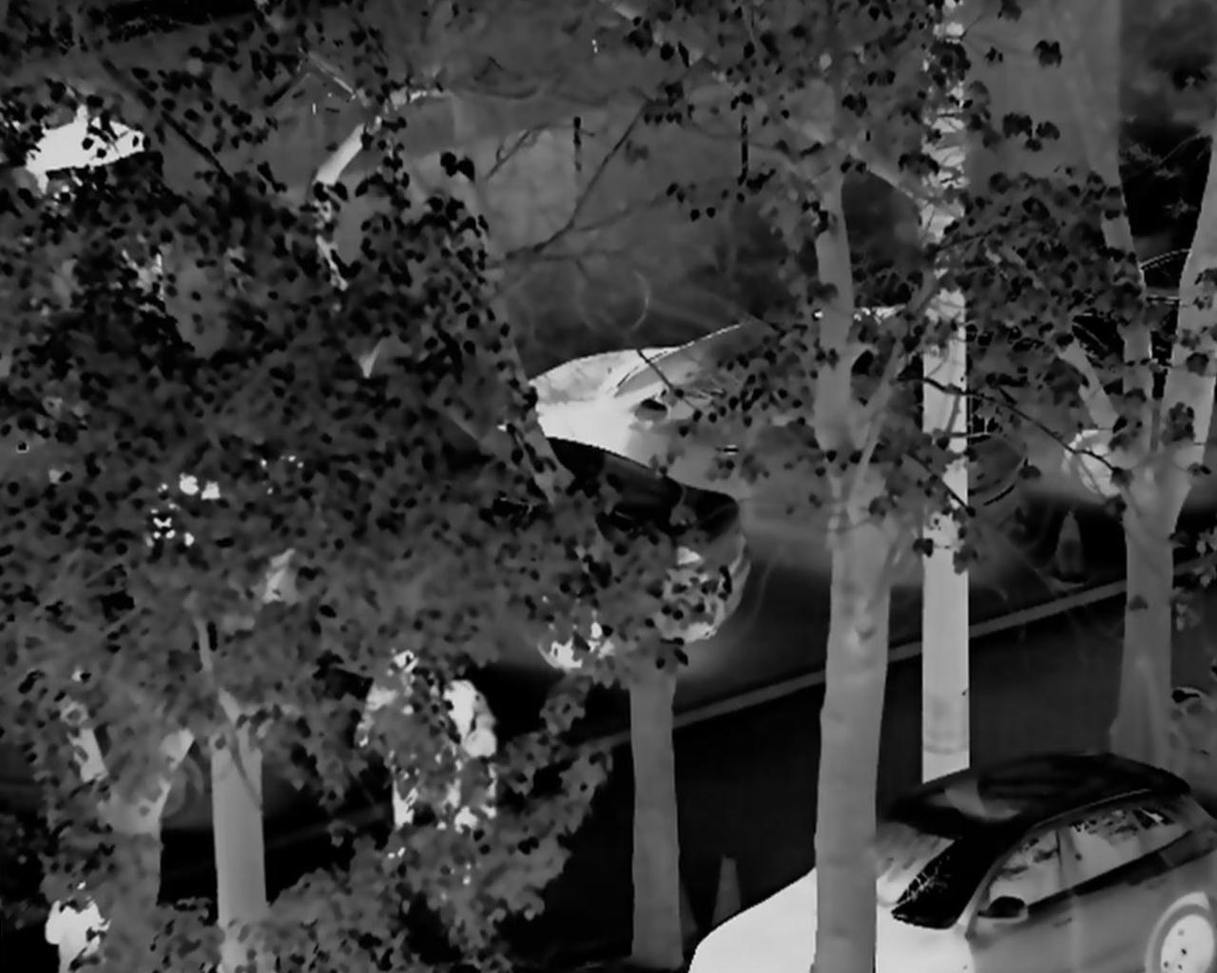person: (357, 644, 433, 868), (432, 670, 501, 894)
